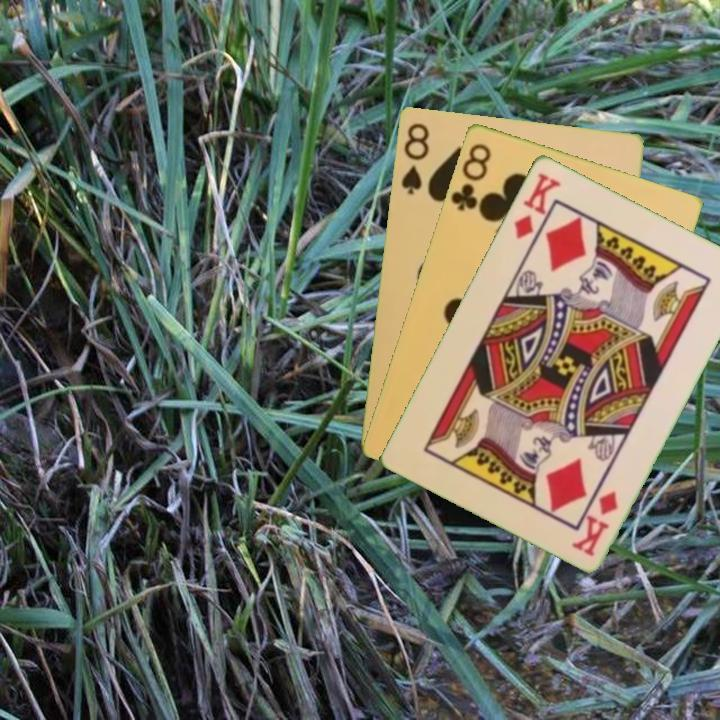8c: (447, 139, 494, 214)
8s: (397, 119, 432, 197)
Kd: (510, 168, 563, 241), (569, 486, 621, 559)
